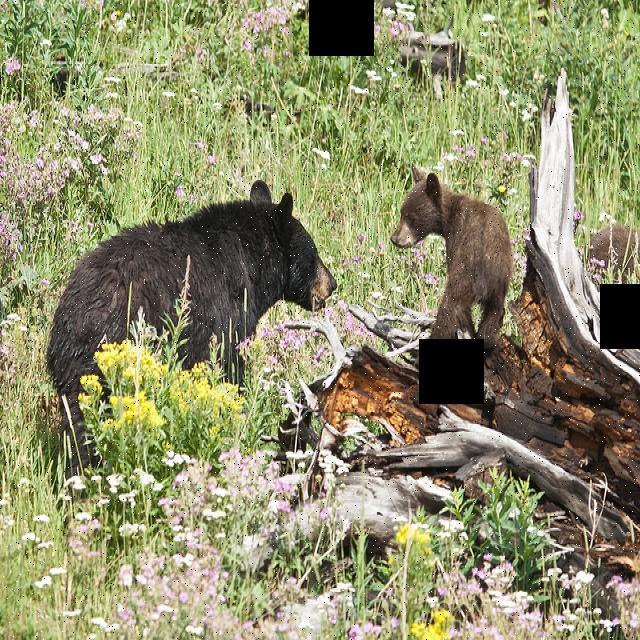Bear: (50, 175, 335, 423), (392, 163, 509, 344)
